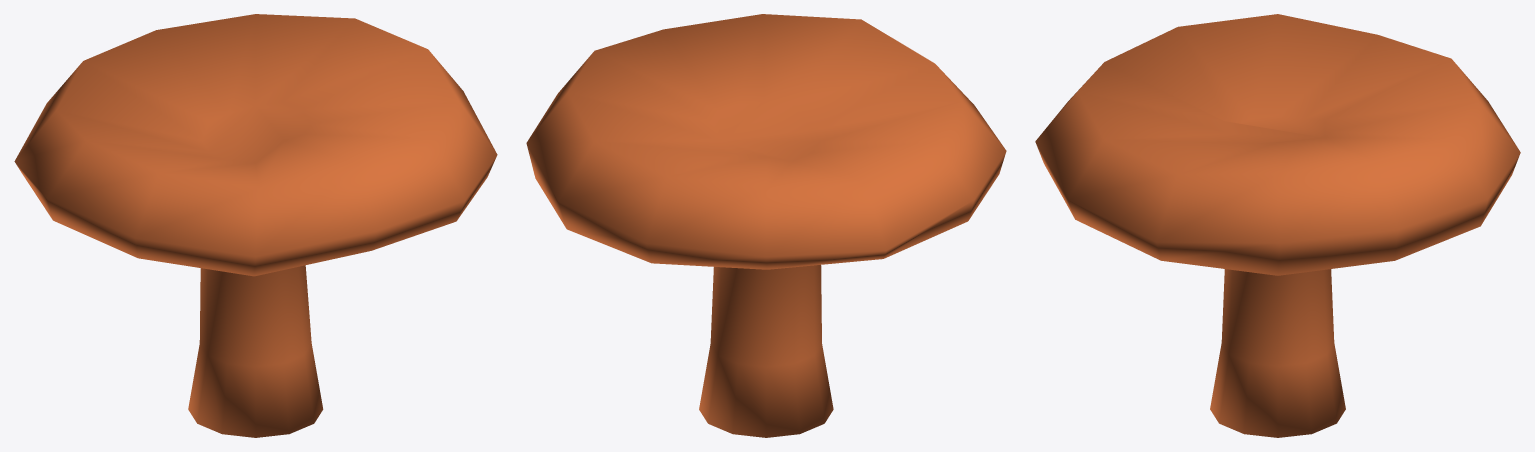
The model's file is Lactarius_big.fbx.
3 renders of one model, left to right at view 1: azimuth 30°, elevation 25°; view 2: azimuth 150°, elevation 25°; view 3: azimuth 270°, elevation 25°, orthographic.
Parts seen in each view (by area): view 1: Lactarius_big; view 2: Lactarius_big; view 3: Lactarius_big.
Part boxes in pixels (box(x1,y1,x2,y2)): Lactarius_big: box(14, 14, 497, 437); Lactarius_big: box(526, 14, 1006, 437); Lactarius_big: box(1035, 14, 1520, 437).
Bounding box in the file's own units: 33.88 × 24.67 × 33.92.
